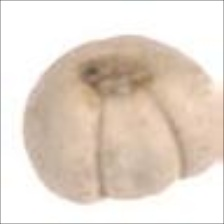L5: (93, 91, 189, 202), (74, 51, 158, 98)
L6: (22, 32, 224, 207)
